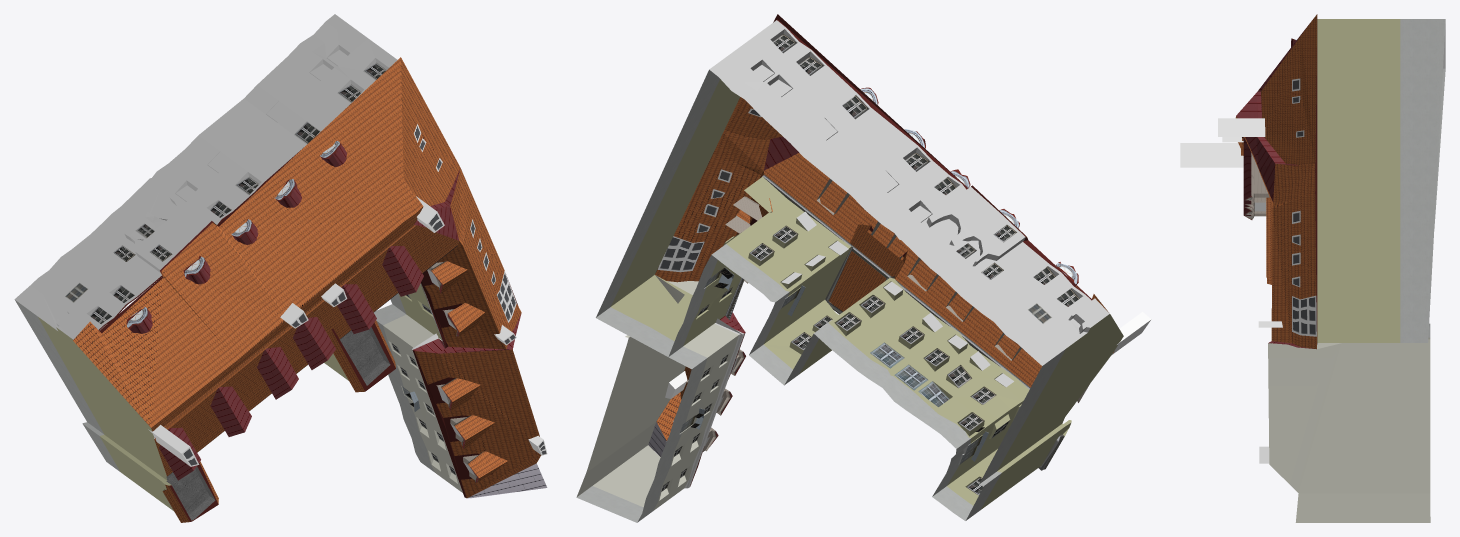
The model's file is Kiriku_poik_4-origo.obj.
3 views of the same model, side by side, from view 1: azimuth 30°, elevation 25°; view 2: azimuth 150°, elevation 25°; view 3: azimuth 270°, elevation 25° (orthographic). The views are drawn at different scales.
Parts seen in each view (by area): view 1: Kiriku_poik_4; view 2: Kiriku_poik_4; view 3: Kiriku_poik_4.
Part boxes in pixels (box(x1,y1,x2,y2)): Kiriku_poik_4: box(14, 14, 547, 522); Kiriku_poik_4: box(576, 14, 1151, 522); Kiriku_poik_4: box(1180, 14, 1445, 522).
Size of the model in its own units: 46.44 by 45 by 23.82.
